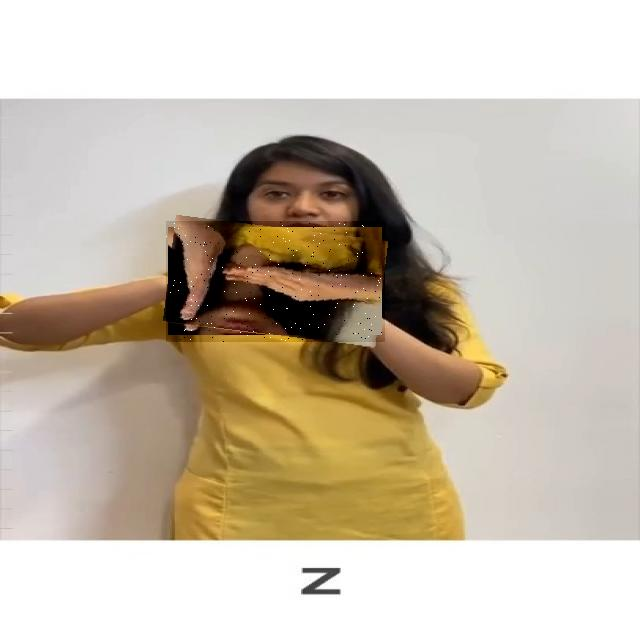Z: (166, 221, 385, 342)
